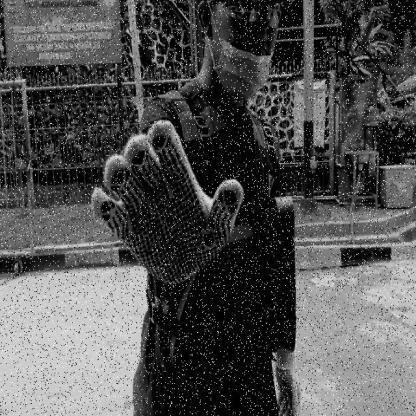gloves: (90, 119, 246, 295), (270, 350, 304, 415)
goggles: (215, 0, 284, 27)
mask: (210, 40, 278, 105)
vest: (168, 189, 295, 382)
